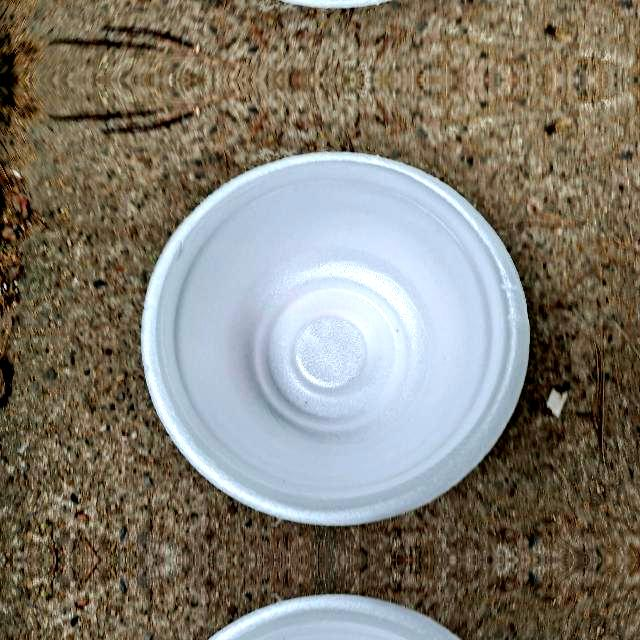Styrofoam: (139, 148, 531, 528), (141, 152, 530, 526)
